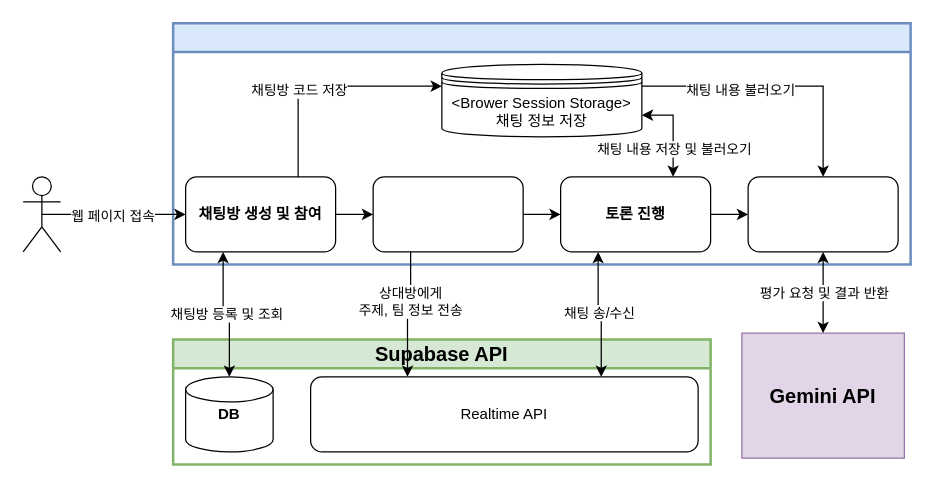
The diagram is 934 pixels wide and 486 high, and some of its shapes have lost their labels. Here are the shapes that lost their labels. From the top down, the box of each, then its label:
(171, 21, 911, 265): React(Javascript) Code
(22, 176, 61, 252): 사용자
(372, 176, 523, 252): 주제 선정 (호스트)
(747, 176, 898, 252): 최종 평가
